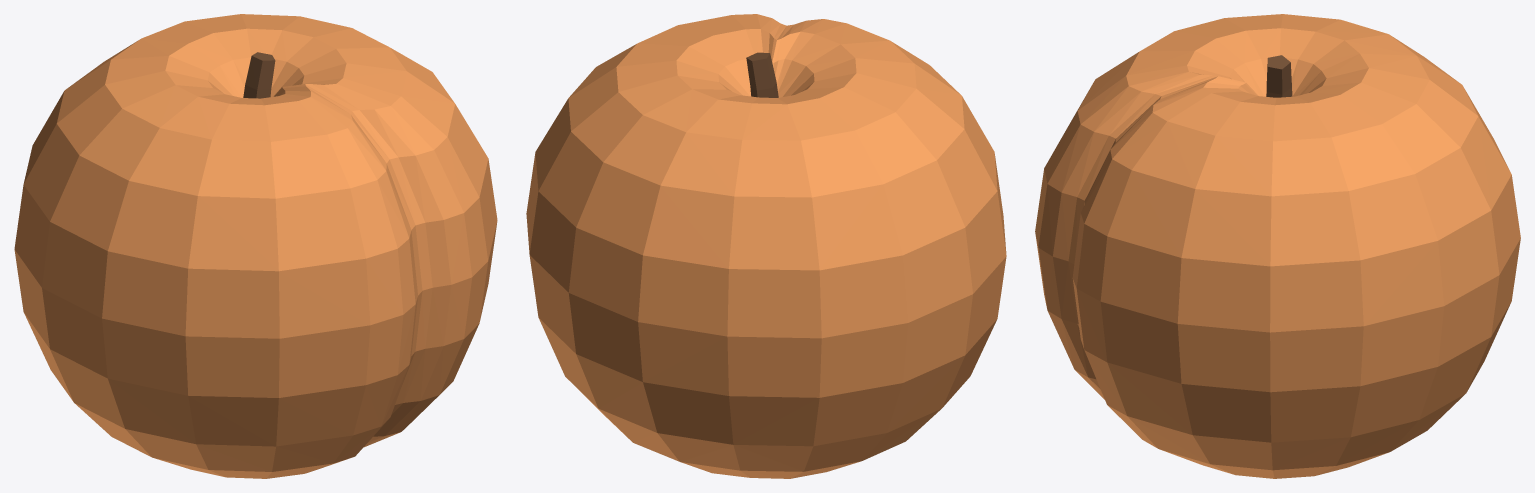
Rendered from peach.glb.
The picture shows the model from 3 angles, left to right: view 1: azimuth 30°, elevation 25°; view 2: azimuth 150°, elevation 25°; view 3: azimuth 270°, elevation 25°; orthographic projection.
Visible parts, largest first — view 1: Peach continuous cheeks and recessed suture; view 2: Peach continuous cheeks and recessed suture; view 3: Peach continuous cheeks and recessed suture.
Boxes of the visible parts, x1,y1,x2,y2 form: Peach continuous cheeks and recessed suture: (14,14,497,478); Peach continuous cheeks and recessed suture: (526,14,1006,478); Peach continuous cheeks and recessed suture: (1035,14,1520,478).
Bounding box in the file's own units: 0.08 × 0.0709 × 0.08.
